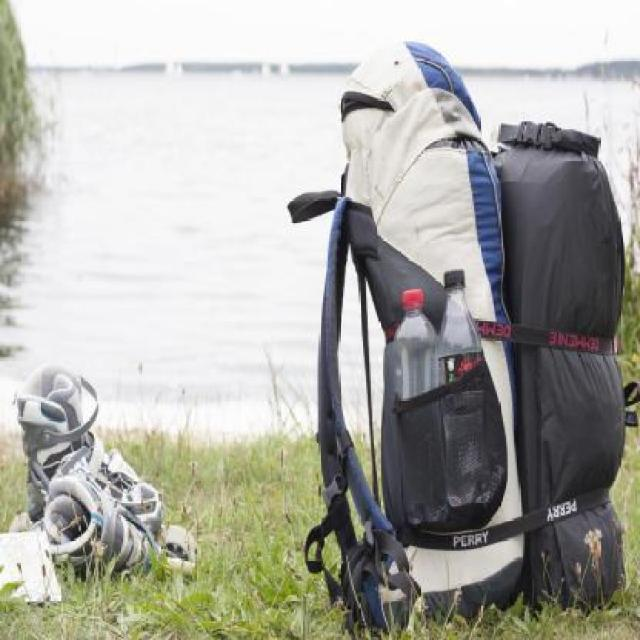backpack: (286, 34, 640, 640)
